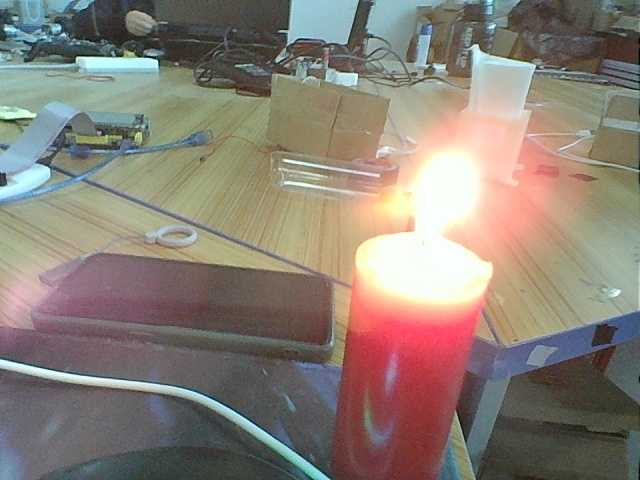candle: (327, 231, 500, 480)
fire: (398, 146, 490, 248)
